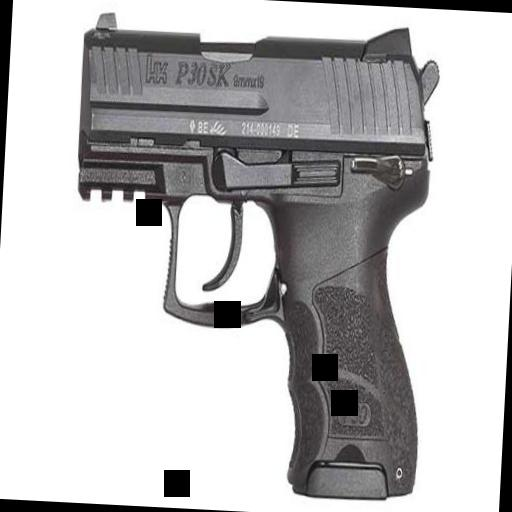Handgun: (52, 4, 444, 502)
